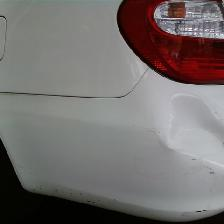bumper_dent: (145, 86, 224, 180)
